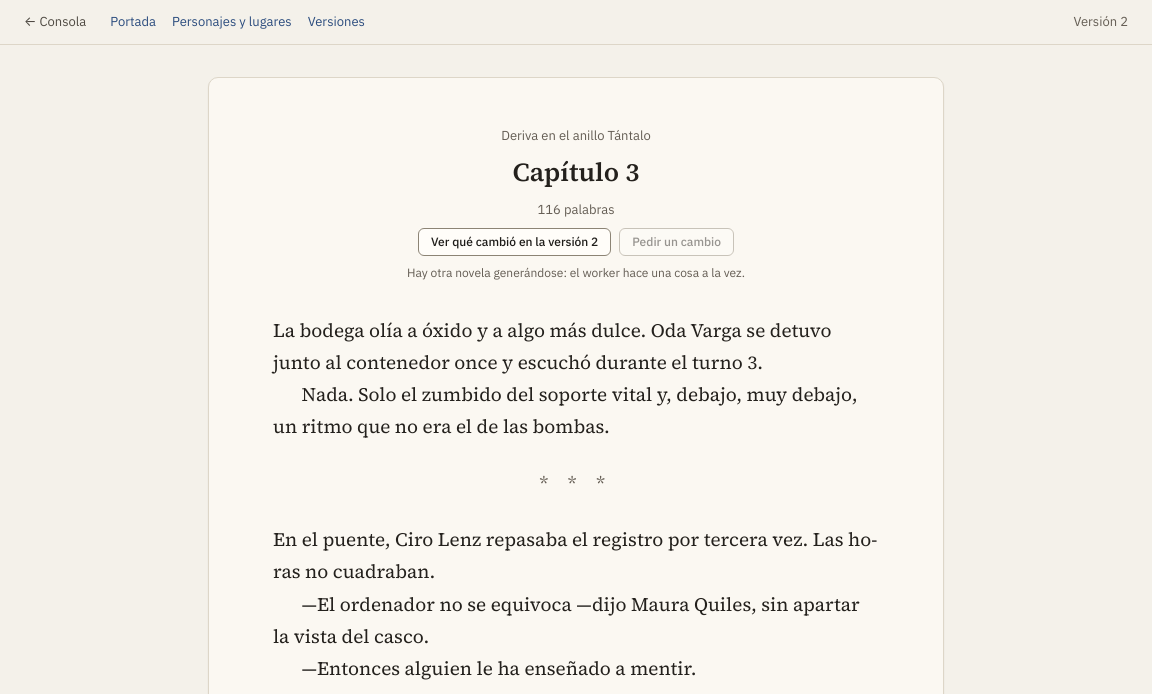
capítulo y qué cambió (RF-FE-LEE-05, RF-FE-LEE-07) › «ver qué cambió» compara con la versión anterior, con lo añadido y lo quitado marcados
Click the button "Ver qué cambió en la versión 2". click: point(515, 242)
box: left=418, top=228, right=611, bottom=256
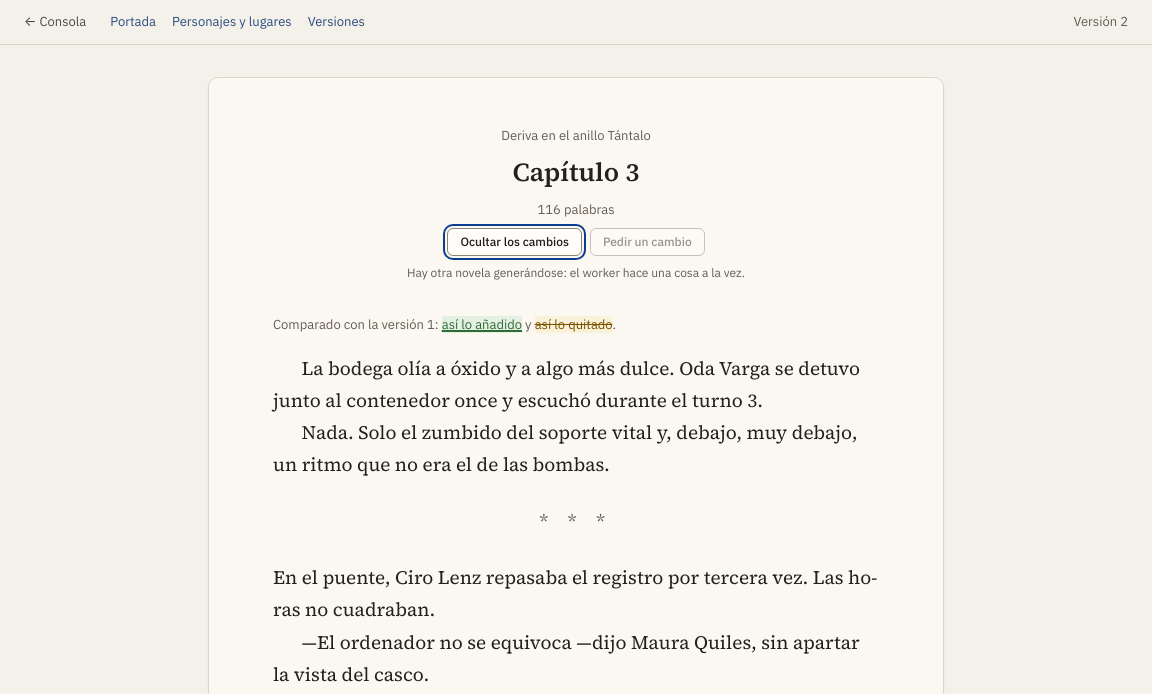
Expected: the text "Comparado con la versión 1: así lo añadido y así lo quitado." is shown, left=273, top=316, right=616, bottom=332
